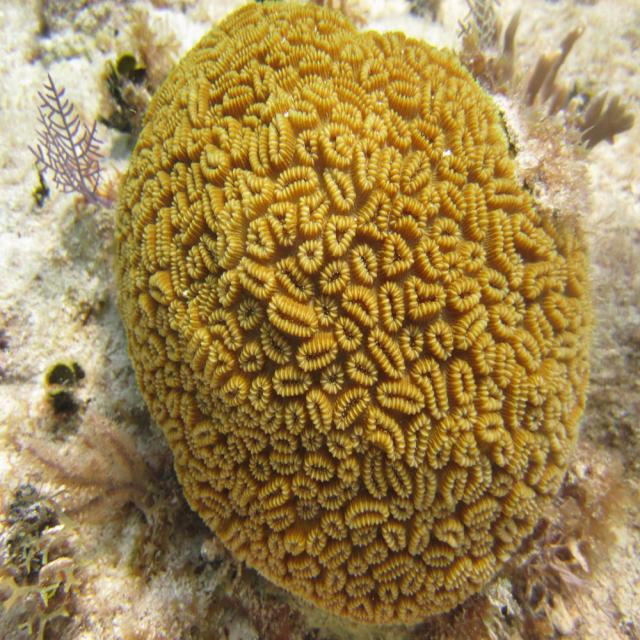Coral: (111, 0, 588, 624)
